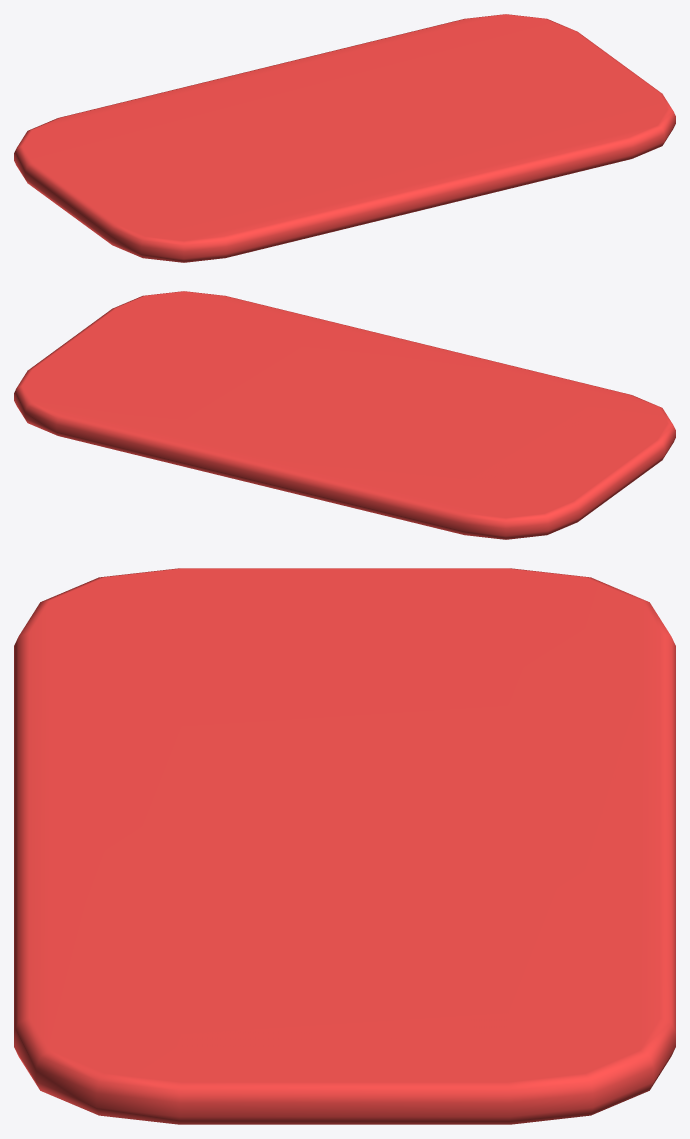
Rendered from Store_7_Carpet_1.glb.
The picture shows the model from 3 angles, top to bottom: view 1: azimuth 30°, elevation 25°; view 2: azimuth 150°, elevation 25°; view 3: azimuth 270°, elevation 25°; orthographic projection. The views are drawn at different scales.
Visible parts, largest first — view 1: Store_7_Carpet_1; view 2: Store_7_Carpet_1; view 3: Store_7_Carpet_1.
Boxes of the visible parts, box(x1,y1,x2,y2) form: Store_7_Carpet_1: box(14, 14, 675, 262); Store_7_Carpet_1: box(14, 291, 675, 539); Store_7_Carpet_1: box(14, 568, 675, 1124).
Size of the model in its own units: 1.44 by 0.0538 by 0.7663.
1 material, 1 textured.
